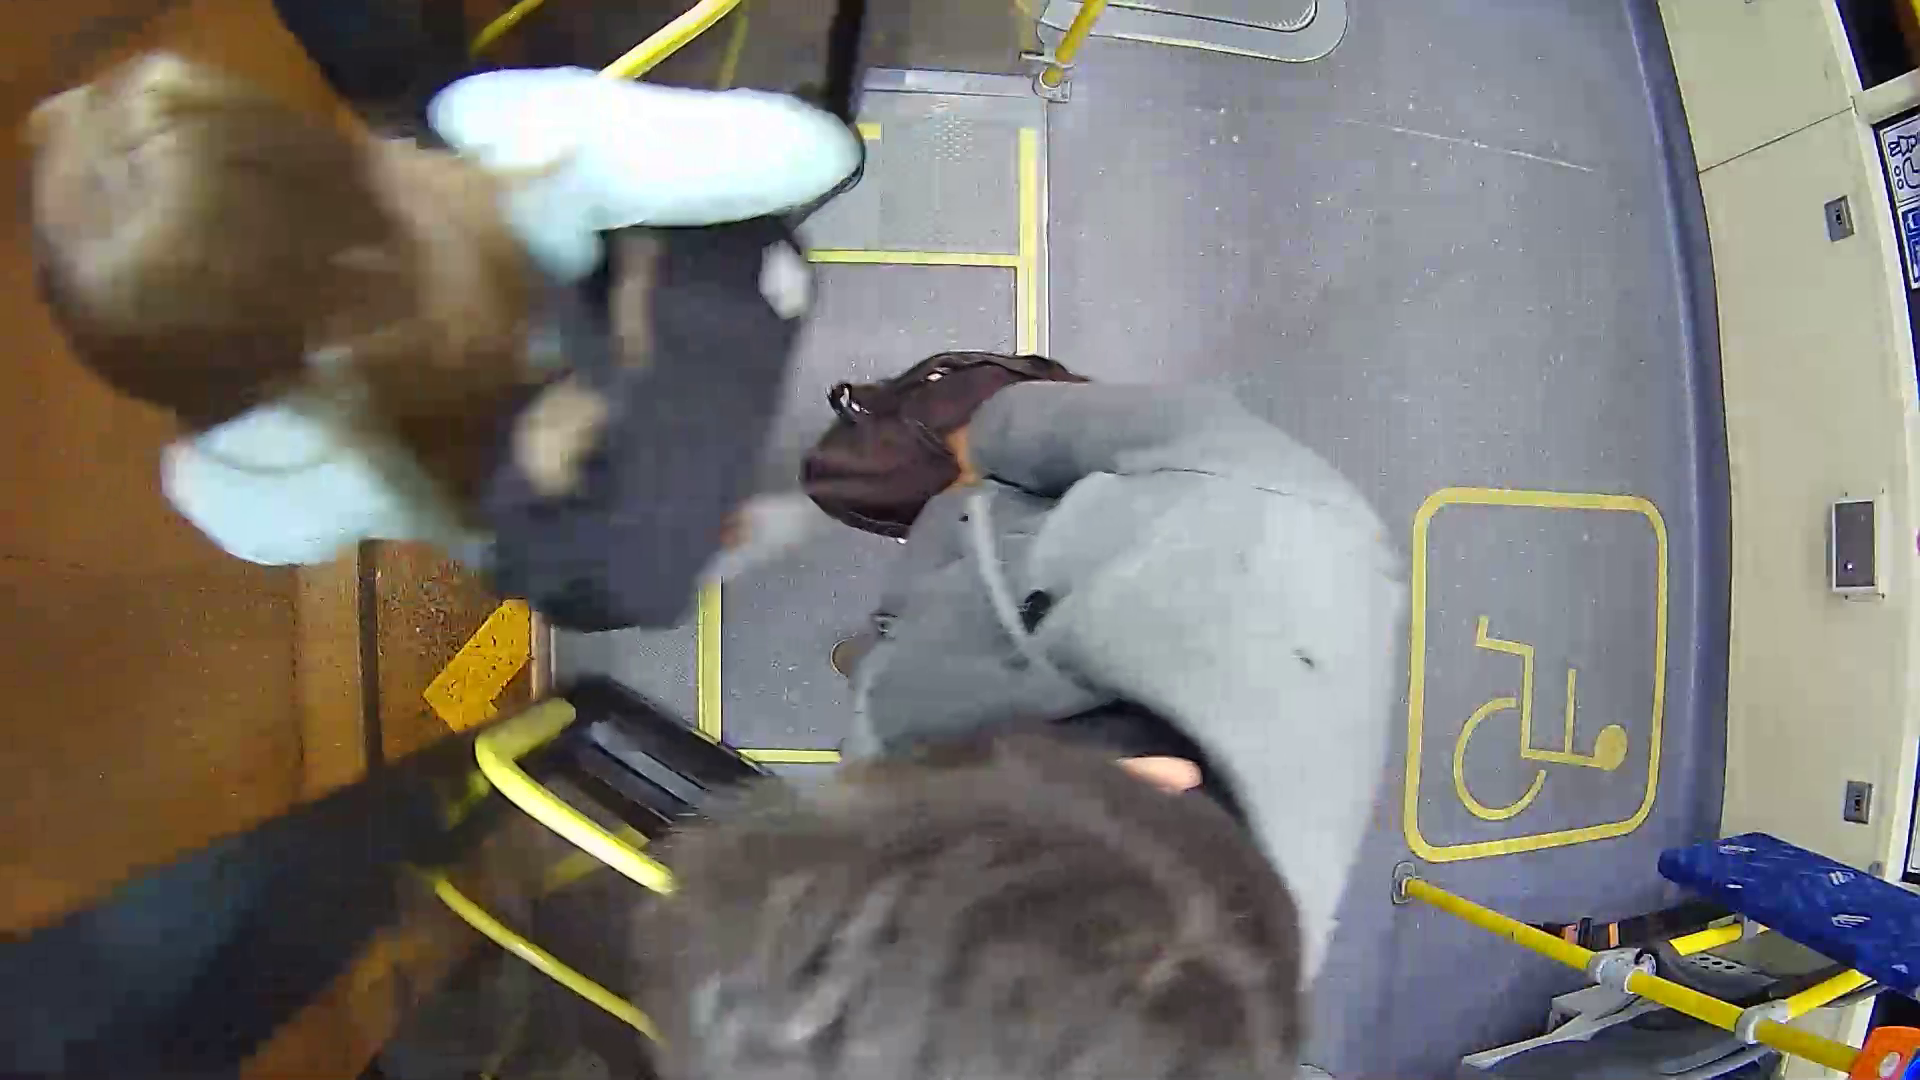person: (577, 365, 1465, 1080), (33, 37, 921, 549)
